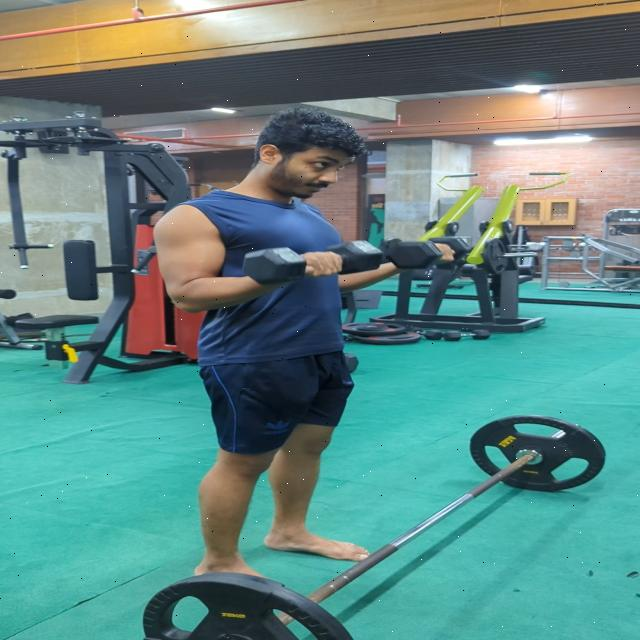Normal_DumbbellBicepCurls: (150, 107, 470, 586)
